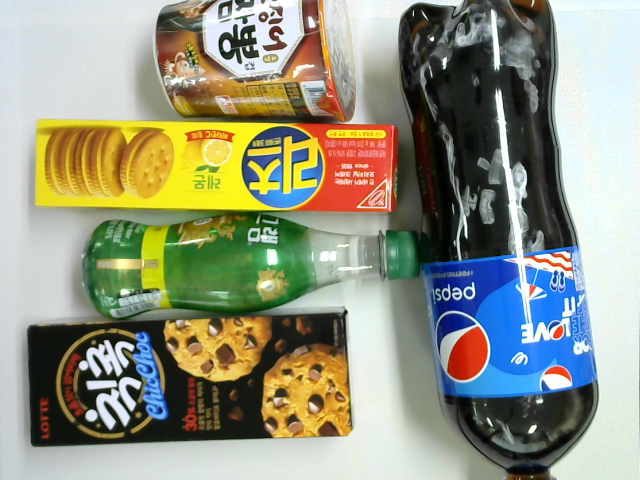Chicchok_Original_2400: (24, 304, 355, 451)
Ojjam: (150, 1, 364, 127)
Pepsi_Cola_1.5L: (398, 1, 600, 479)
Ritz_Remon_96g: (33, 117, 400, 217)
Seagram_Lemon_Carbonated_Water: (82, 210, 421, 328)
